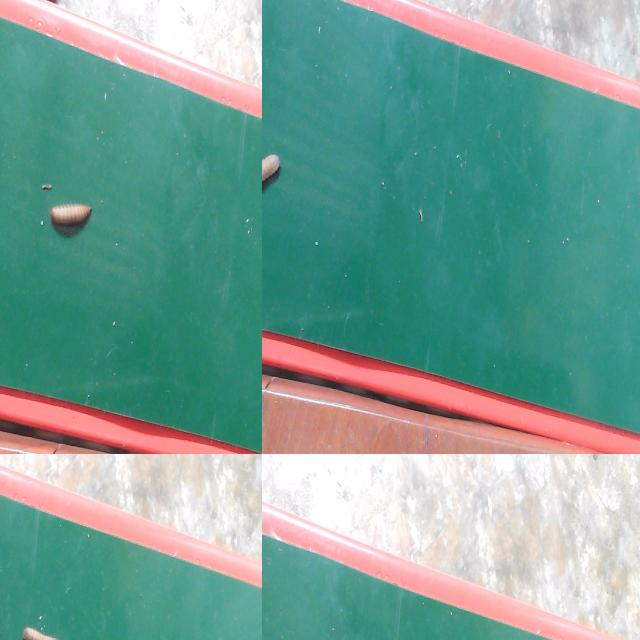Maggot: (48, 201, 94, 240), (262, 153, 283, 195), (21, 627, 61, 640)
